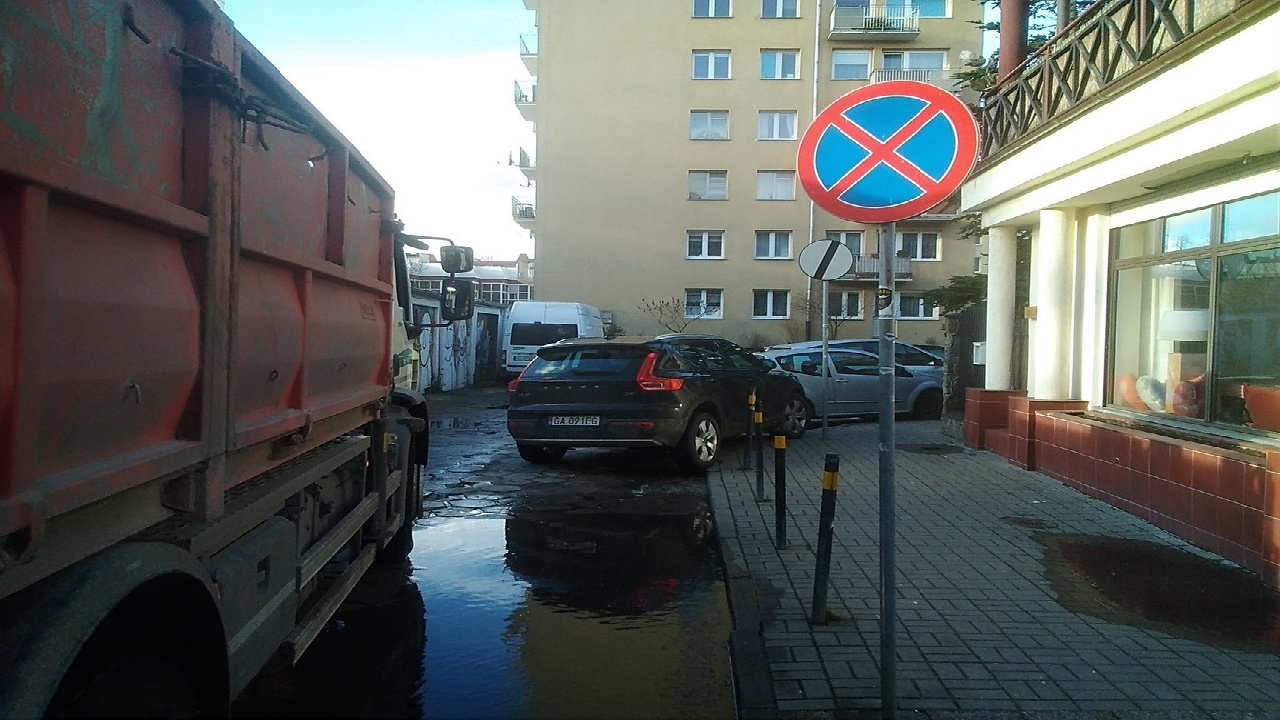B36: (799, 81, 979, 223)
